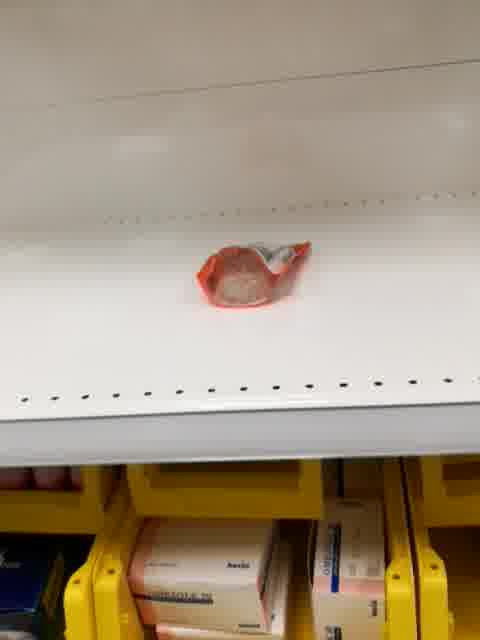whitechia: (191, 239, 312, 309)
